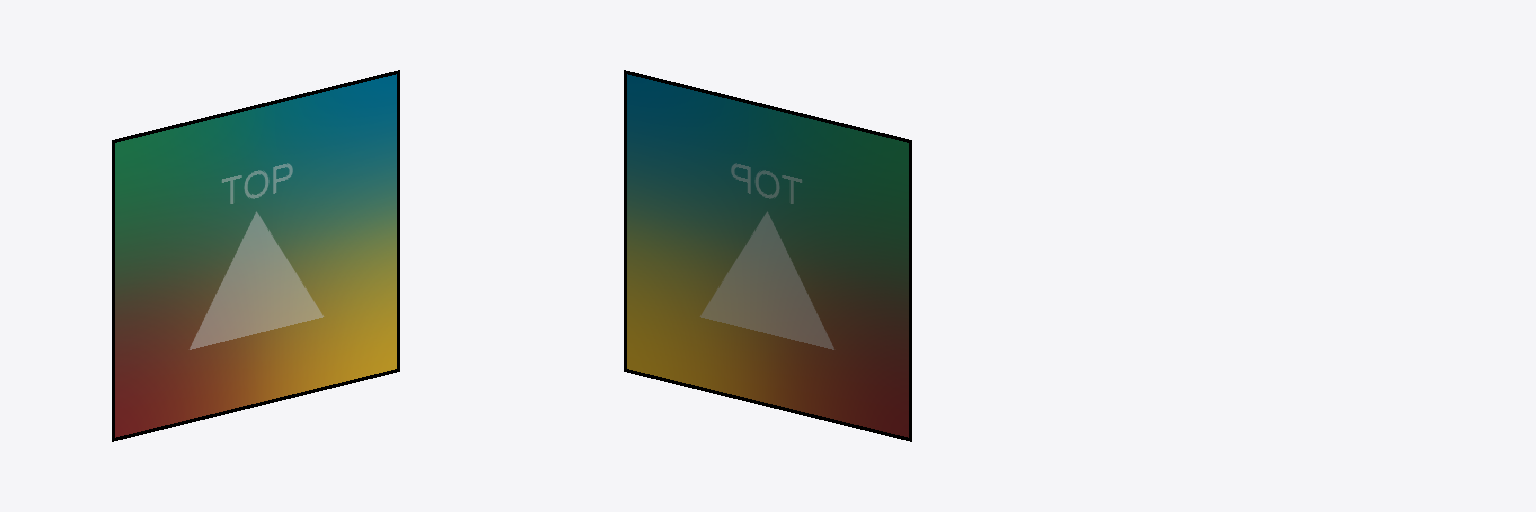
The picture shows the model from 3 angles: view 1: azimuth 30°, elevation 25°; view 2: azimuth 150°, elevation 25°; view 3: azimuth 270°, elevation 25°; orthographic projection.
Visible parts, largest first — view 1: Mesh; view 2: Mesh; view 3: none.
Boxes of the visible parts, x1,y1,x2,y2 form: Mesh: [112, 70, 399, 441]; Mesh: [624, 70, 911, 441].
Size of the model in its own units: 1 by 1 by 0.
Materials: 2 (1 with a texture image).